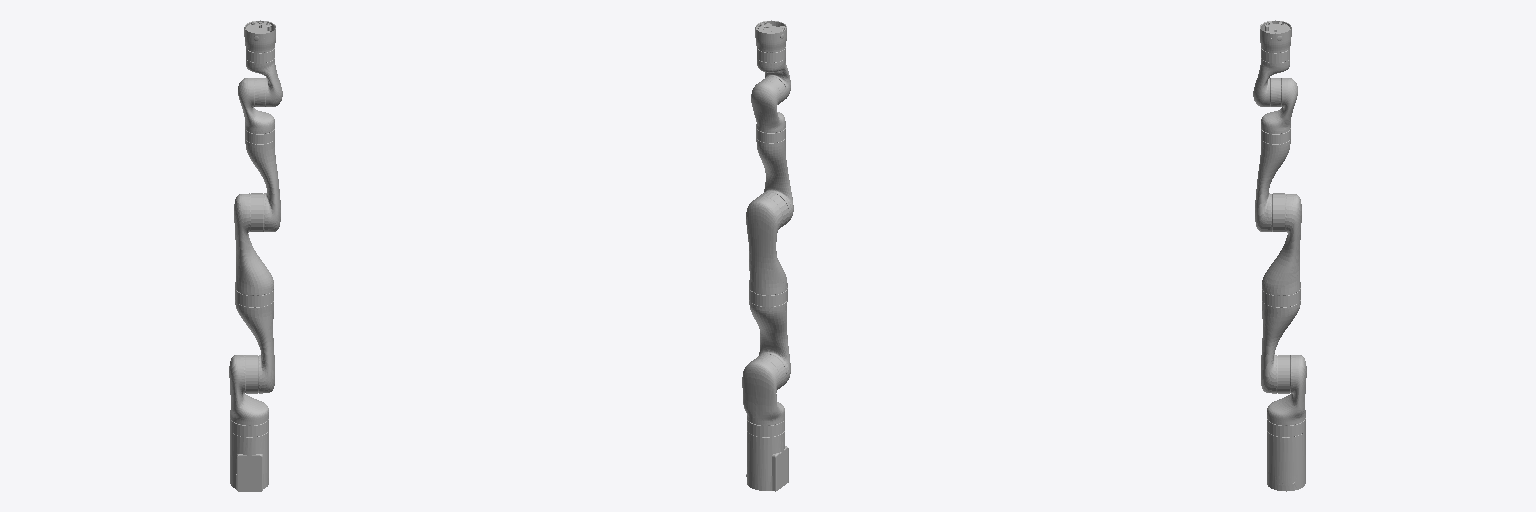
URDF robot description (kinova):
<?xml version='1.0' encoding='utf-8'?>
<robot name="kinova" version="1.0">
  <link name="link0">
    <inertial>
      <origin xyz="-0.000648 -0.000166 0.084487" rpy="0 0 0" />
      <mass value="1.697" />
      <inertia ixx="0.004622" ixy="0.000009" ixz="0.000060" iyy="0.004495" iyz="0.000009" izz="0.002079" />
    </inertial>
    <visual>
      <origin xyz="0 0 0" rpy="0 0 0" />
      <geometry>
        <mesh filename="../../urdf_models/mmp_panda/meshes/base_link.obj" />
      </geometry>
      <material name="">
        <color rgba="0.75294 0.75294 0.75294 1" />
      </material>
    </visual>
    <!-- <collision>
      <origin xyz="0 0 0" rpy="0 0 0" />
      <geometry>
        <mesh filename="../../urdf_models/mmp_panda/meshes/base_link.obj" />
      </geometry>
    </collision> -->
  </link>

  <link name="link1">
    <inertial>
      <origin xyz="-0.000023 -0.010364 -0.073360" rpy="0 0 0" />
      <mass value="1.377" />
      <inertia ixx="0.004570" ixy="0.000001" ixz="0.000002" iyy="0.004831" iyz="0.000448" izz="0.001409" />
    </inertial>
    <visual>
      <origin xyz="0 0 0" rpy="0 0 0" />
      <geometry>
        <mesh filename="../../urdf_models/mmp_panda/meshes/Shoulder_Link.obj" />
      </geometry>
      <material name="">
        <color rgba="0.75294 0.75294 0.75294 1" />
      </material>
    </visual>
    <!-- <collision>
      <origin xyz="0 0 0" rpy="0 0 0" />
      <geometry>
        <mesh filename="../../urdf_models/mmp_panda/meshes/Shoulder_Link.obj" />
      </geometry>
    </collision> -->
  </link>

  <link name="link2">
    <inertial>
      <origin xyz="-0.000044 -0.099580 -0.013278" rpy="0 0 0" />
      <mass value="1.1636" />
      <inertia ixx="0.011088" ixy="0.000005" ixz="0.0" iyy="0.001072" iyz="-0.000691" izz="0.011255" />
    </inertial>
    <visual>
      <origin xyz="0 0 0" rpy="0 0 0" />
      <geometry>
        <mesh filename="../../urdf_models/mmp_panda/meshes/HalfArm1_Link.obj" />
      </geometry>
      <material name="">
        <color rgba="0.75294 0.75294 0.75294 1" />
      </material>
    </visual>
    <!-- <collision>
      <origin xyz="0 0 0" rpy="0 0 0" />
      <geometry>
        <mesh filename="../../urdf_models/mmp_panda/meshes/HalfArm1_Link.obj" />
      </geometry>
    </collision> -->
  </link>

  <link name="link3">
    <inertial>
      <origin xyz="-0.000044 -0.006641 -0.117892" rpy="0 0 0" />
      <mass value="1.1636" />
      <inertia ixx="0.010932" ixy="0.0" ixz="-0.000007" iyy="0.011127" iyz="0.000606" izz="0.001043" />
    </inertial>
    <visual>
      <origin xyz="0 0 0" rpy="0 0 0" />
      <geometry>
        <mesh filename="../../urdf_models/mmp_panda/meshes/HalfArm2_Link.obj" />
      </geometry>
      <material name="">
        <color rgba="0.75294 0.75294 0.75294 1" />
      </material>
    </visual>
    <!-- <collision>
      <origin xyz="0 0 0" rpy="0 0 0" />
      <geometry>
        <mesh filename="../../urdf_models/mmp_panda/meshes/HalfArm2_Link.obj" />
      </geometry>
    </collision> -->
  </link>

  <link name="link4">
    <inertial>
      <origin xyz="-0.000018 -0.075478 -0.015006" rpy="0 0 0" />
      <mass value="0.93" />
      <inertia ixx="0.008147" ixy="-0.000001" ixz="0.0" iyy="0.000631" iyz="-0.000500" izz="0.008316" />
    </inertial>
    <visual>
      <origin xyz="0 0 0" rpy="0 0 0" />
      <geometry>
        <mesh filename="../../urdf_models/mmp_panda/meshes/ForeArm_Link.obj" />
      </geometry>
      <material name="">
        <color rgba="0.75294 0.75294 0.75294 1" />
      </material>
    </visual>
    <collision>
      <origin xyz="0 0 0" rpy="0 0 0" />
      <geometry>
        <mesh filename="../../urdf_models/mmp_panda/meshes/ForeArm_Link.obj" />
      </geometry>
    </collision>
  </link>

  <link name="link5">
    <inertial>
      <origin xyz="0.000001 -0.009432 -0.063883" rpy="0 0 0" />
      <mass value="0.678" />
      <inertia ixx="0.001596" ixy="0.0" ixz="0.0" iyy="0.001607" iyz="0.000256" izz="0.000399" />
    </inertial>
    <visual>
      <origin xyz="0 0 0" rpy="0 0 0" />
      <geometry>
        <mesh filename="../../urdf_models/mmp_panda/meshes/SphericalWrist1_Link.obj" />
      </geometry>
      <material name="">
        <color rgba="0.75294 0.75294 0.75294 1" />
      </material>
    </visual>
    <collision>
      <origin xyz="0 0 0" rpy="0 0 0" />
      <geometry>
        <mesh filename="../../urdf_models/mmp_panda/meshes/SphericalWrist1_Link.obj" />
      </geometry>
    </collision>
  </link>

  <link name="link6">
    <inertial>
      <origin xyz="0.000001 -0.045483 -0.009650" rpy="0 0 0" />
      <mass value="0.678" />
      <inertia ixx="0.001641" ixy="0.0" ixz="0.0" iyy="0.000410" iyz="-0.000278" izz="0.001641" />
    </inertial>
    <visual>
      <origin xyz="0 0 0" rpy="0 0 0" />
      <geometry>
        <mesh filename="../../urdf_models/mmp_panda/meshes/SphericalWrist2_Link.obj" />
      </geometry>
      <material name="">
        <color rgba="0.75294 0.75294 0.75294 1" />
      </material>
    </visual>
    <collision>
      <origin xyz="0 0 0" rpy="0 0 0" />
      <geometry>
        <mesh filename="../../urdf_models/mmp_panda/meshes/SphericalWrist2_Link.obj" />
      </geometry>
    </collision>
  </link>

  <link name="link7">
    <inertial>
      <origin xyz="-0.000093 0.000132 -0.022905" rpy="0 0 0" />
      <mass value="0.364" />
      <!-- <mass value="0.364" original mass /> -->
      <inertia ixx="0.000214" ixy="0.0" ixz="0.000001" iyy="0.000223" iyz="-0.000002" izz="0.000240" />
    </inertial>
    <visual>
      <origin xyz="0 0 0" rpy="0 0 0" />
      <geometry>
        <mesh filename="../../urdf_models/mmp_panda/meshes/bracelet_no_vision_link.obj" />
      </geometry>
      <material name="">
        <color rgba="0.75294 0.75294 0.75294 1" />
      </material>
    </visual>
    <collision>
      <origin xyz="0 0 0" rpy="0 0 0" />
      <geometry>
        <mesh filename="../../urdf_models/mmp_panda/meshes/bracelet_no_vision_link.obj" />
      </geometry>
    </collision>
  </link>


  <joint name="Actuator1" type="revolute">
    <origin xyz="0 0 0.15643" rpy="3.1416 2.7629E-18 -4.9305E-36" />
    <parent link="link0" />
    <child link="link1" />
    <axis xyz="0 0 1" />
    <limit effort="39" lower="-20.8973" upper="20.8973" velocity="0.8727" />
  </joint>
  <joint name="Actuator2" type="revolute">
    <origin xyz="0 0.005375 -0.12838" rpy="1.5708 2.1343E-17 -1.1102E-16" />
    <parent link="link1" />
    <child link="link2" />
    <axis xyz="0 0 1" />
    <limit effort="39" lower="-2.41" upper="2.41" velocity="0.8727" />
  </joint>
  <joint name="Actuator3" type="revolute">
    <origin xyz="0 -0.21038 -0.006375" rpy="-1.5708 1.2326E-32 -2.9122E-16" />
    <parent link="link2" />
    <child link="link3" />
    <axis xyz="0 0 1" />
    <limit effort="39" lower="-20.8973" upper="20.8973" velocity="0.8727" />
  </joint>
  <joint name="Actuator4" type="revolute">
    <origin xyz="0 0.006375 -0.21038" rpy="1.5708 -6.6954E-17 -1.6653E-16" />
    <parent link="link3" />
    <child link="link4" />
    <axis xyz="0 0 1" />
    <limit lower="-2.66" upper="2.66" effort="39" velocity="0.8727" />
  </joint>
  <joint name="Actuator5" type="revolute">
    <origin xyz="0 -0.20843 -0.006375" rpy="-1.5708 2.2204E-16 -6.373E-17" />
    <parent link="link4" />
    <child link="link5" />
    <axis xyz="0 0 1" />
    <limit effort="9" lower="-20.8973" upper="20.8973" velocity="0.8727" />
  </joint>
  <joint name="Actuator6" type="revolute">
    <origin xyz="0 0.00017505 -0.10593" rpy="1.5708 9.2076E-28 -8.2157E-15" />
    <parent link="link5" />
    <child link="link6" />
    <axis xyz="0 0 1" />
    <limit lower="-2.23" upper="2.23" effort="9" velocity="0.8727" />
  </joint>
  <joint name="Actuator7" type="revolute">
    <origin xyz="0 -0.10593 -0.00017505" rpy="-1.5708 -5.5511E-17 9.6396E-17" />
    <parent link="link6" />
    <child link="link7" />
    <axis xyz="0 0 1" />
    <limit effort="9" lower="-20.8973" upper="20.8973" velocity="0.8727" />
  </joint>
</robot>

--- What the picture shows (computed from the rendered views, not written in the file) ---
3 views of the same robot in one strip: view 1: azimuth 90°, elevation 25°; view 2: azimuth 150°, elevation 25°; view 3: azimuth 270°, elevation 25° (orthographic).
Model kinova with 8 links and 7 joints (7 revolute), rooted at link0, posed all joints at 0.
Links seen in each view (by area): view 1: link3, link0, link2, link1, link4, link5, link6, link7; view 2: link3, link0, link1, link2, link4, link5, link7, link6; view 3: link3, link0, link2, link1, link4, link5, link6, link7.
Boxes of the visible links, bbox=[...] form: link3: bbox=[234, 193, 273, 295]; link0: bbox=[230, 418, 268, 491]; link2: bbox=[235, 288, 274, 393]; link1: bbox=[229, 355, 268, 425]; link4: bbox=[245, 128, 280, 231]; link5: bbox=[238, 78, 274, 133]; link6: bbox=[246, 48, 282, 106]; link7: bbox=[244, 20, 275, 52]; link3: bbox=[746, 192, 788, 295]; link0: bbox=[746, 420, 788, 491]; link1: bbox=[742, 354, 786, 425]; link2: bbox=[749, 288, 790, 385]; link4: bbox=[756, 127, 793, 224]; link5: bbox=[751, 76, 785, 132]; link7: bbox=[755, 20, 786, 52]; link6: bbox=[757, 47, 790, 99]; link3: bbox=[1262, 193, 1301, 295]; link0: bbox=[1267, 418, 1305, 491]; link2: bbox=[1261, 288, 1300, 393]; link1: bbox=[1267, 355, 1306, 425]; link4: bbox=[1255, 128, 1290, 231]; link5: bbox=[1261, 78, 1297, 133]; link6: bbox=[1253, 48, 1289, 106]; link7: bbox=[1260, 20, 1291, 52].
Size in the robot's own frame: 0.0928 by 0.1267 by 1.19 metres.
Meshes: 8 distinct files referenced, 8 mesh visuals loaded (8 OBJ).
